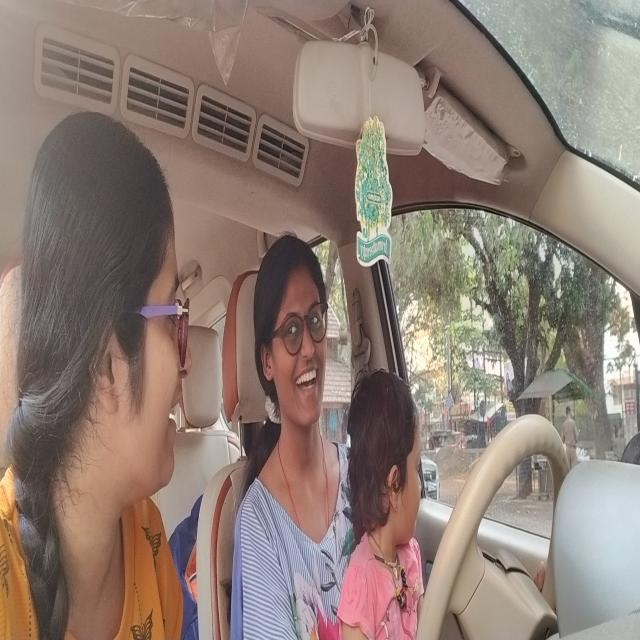LeftRight: (250, 236, 336, 434)
child: (349, 362, 432, 552)
person: (74, 109, 195, 505)
talking: (291, 370, 322, 394)
